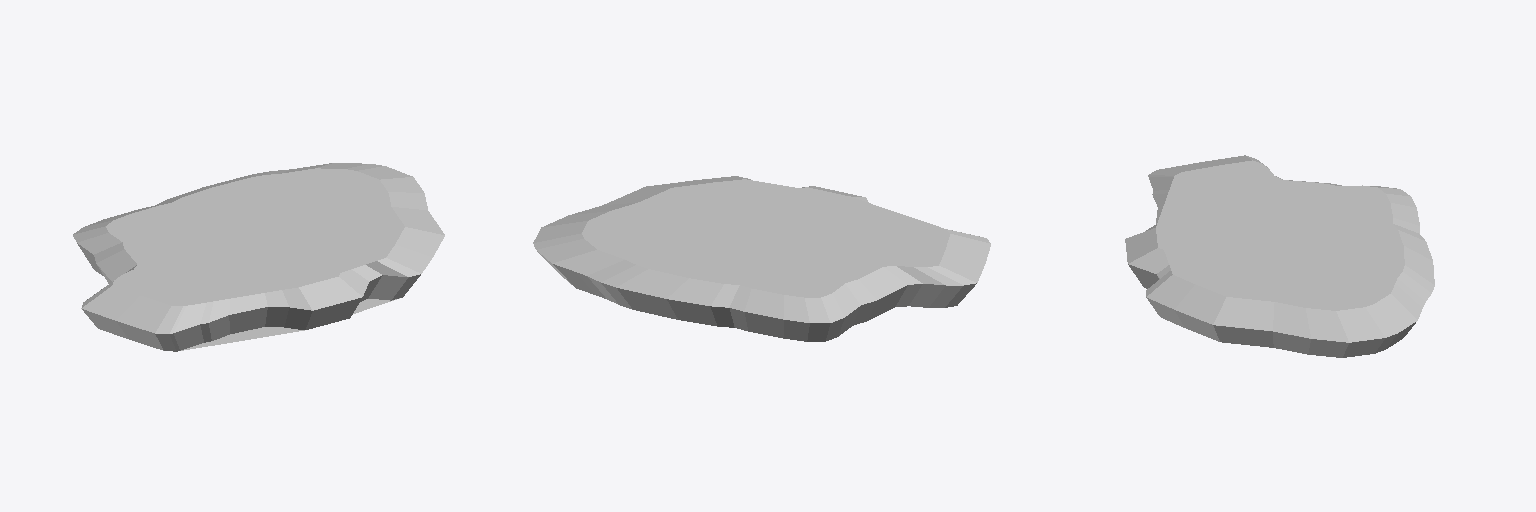
The model's file is meat.obj.
3 views of the same model, side by side, from view 1: azimuth 30°, elevation 25°; view 2: azimuth 150°, elevation 25°; view 3: azimuth 270°, elevation 25° (orthographic).
Visible parts, largest first — view 1: Raw_meat_Plane.001; view 2: Raw_meat_Plane.001; view 3: Raw_meat_Plane.001.
Part boxes in pixels (x1,y1,x2,y2): Raw_meat_Plane.001: (73, 163, 444, 351); Raw_meat_Plane.001: (533, 176, 990, 341); Raw_meat_Plane.001: (1125, 155, 1434, 357).
Size of the model in its own units: 2.45 by 0.2298 by 1.71.